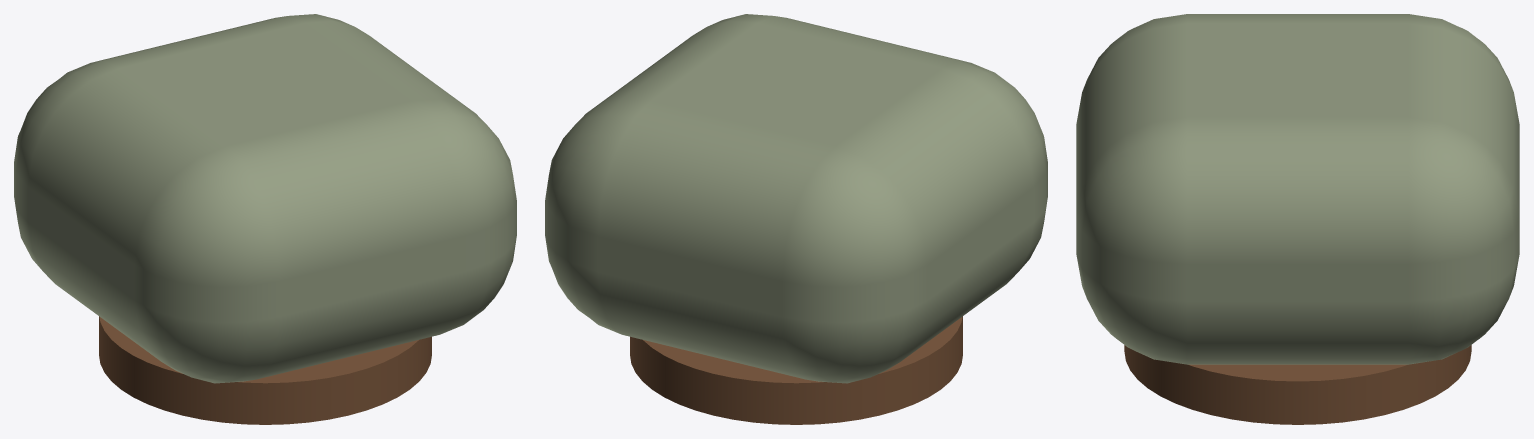
Rendered from pebble-stool-sage.glb.
The picture shows the model from 3 angles, left to right: view 1: azimuth 30°, elevation 25°; view 2: azimuth 150°, elevation 25°; view 3: azimuth 270°, elevation 25°; orthographic projection. The views are drawn at different scales.
Parts seen in each view (by area): view 1: The Pebble Ottoman — Sage; view 2: The Pebble Ottoman — Sage; view 3: The Pebble Ottoman — Sage.
Boxes of the visible parts, x1,y1,x2,y2 form: The Pebble Ottoman — Sage: [14, 14, 516, 424]; The Pebble Ottoman — Sage: [545, 14, 1047, 424]; The Pebble Ottoman — Sage: [1076, 14, 1519, 424].
Size of the model in its own units: 0.6 by 0.42 by 0.6.
